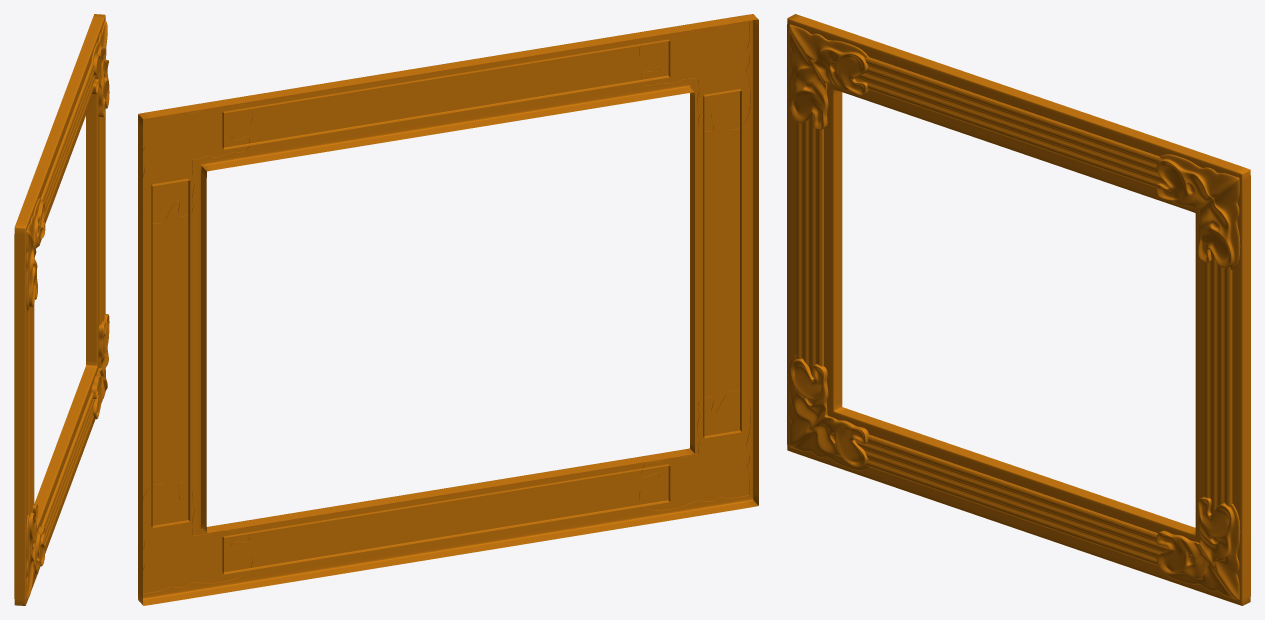
Rendered from marco.FBX.
The picture shows the model from 3 angles, left to right: view 1: azimuth 30°, elevation 25°; view 2: azimuth 150°, elevation 25°; view 3: azimuth 270°, elevation 25°; orthographic projection. The views are drawn at different scales.
Parts seen in each view (by area): view 1: Marco; view 2: Marco; view 3: Marco.
Part boxes in pixels (x1,y1,x2,y2): Marco: [14, 14, 109, 605]; Marco: [138, 14, 758, 605]; Marco: [787, 14, 1250, 605].
Size of the model in its own units: 57.79 by 72.88 by 70.77.
